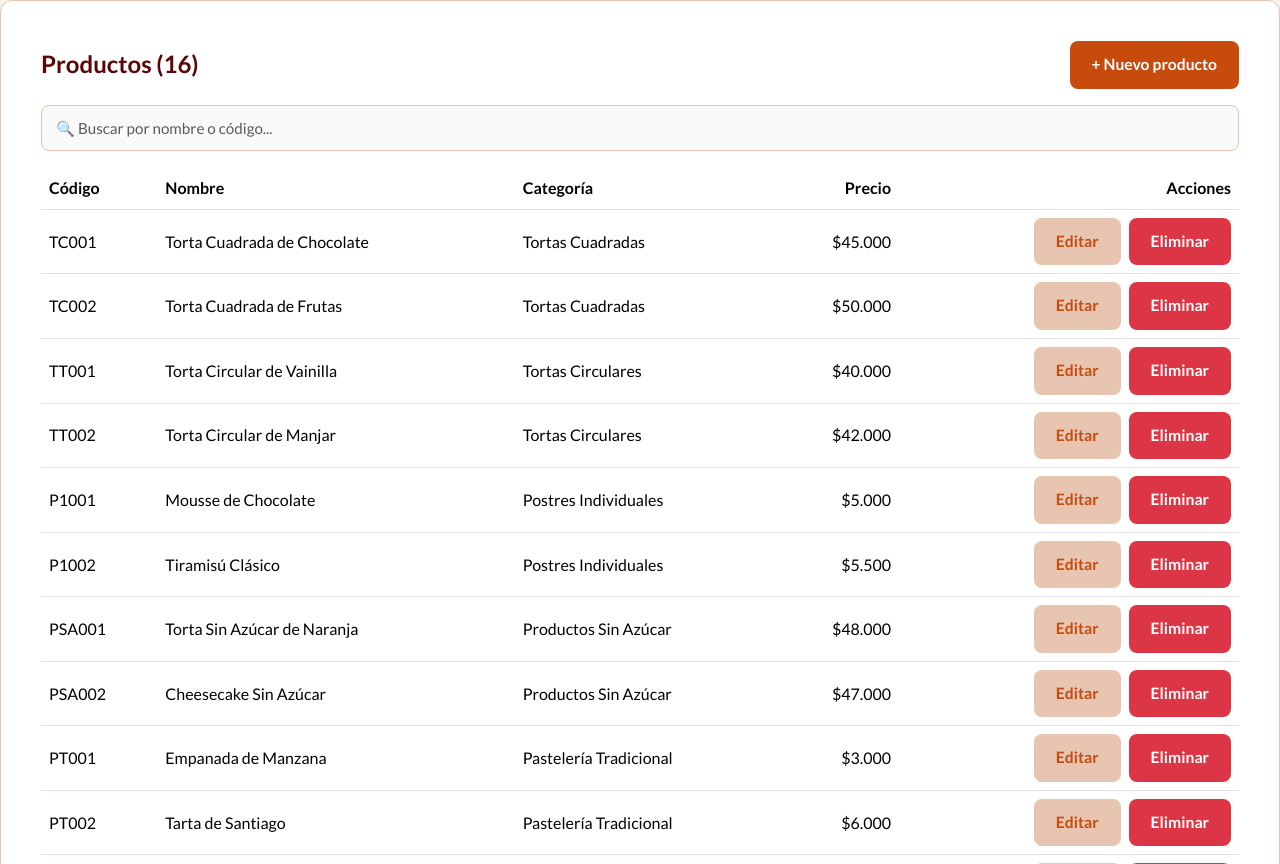
Test: Panel de Administración - Productos › Debe mostrar un error si el código ya existe
The width and height of the screenshot is (1280, 864).
Click the button "+ Nuevo producto" at (1154, 65), box [1070, 41, 1239, 88]
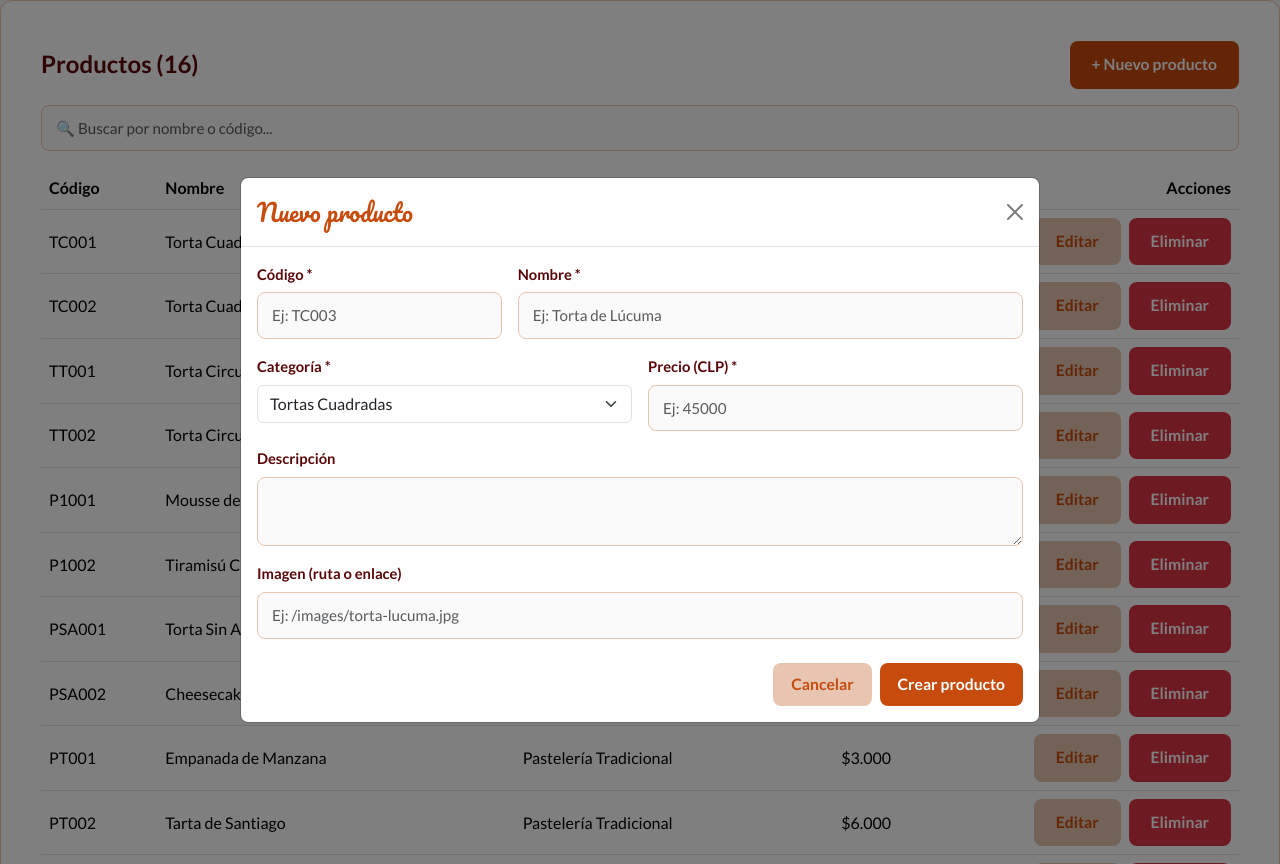
Type "TC001" into the field labelled "Código *" at (379, 316), box [257, 292, 502, 339]
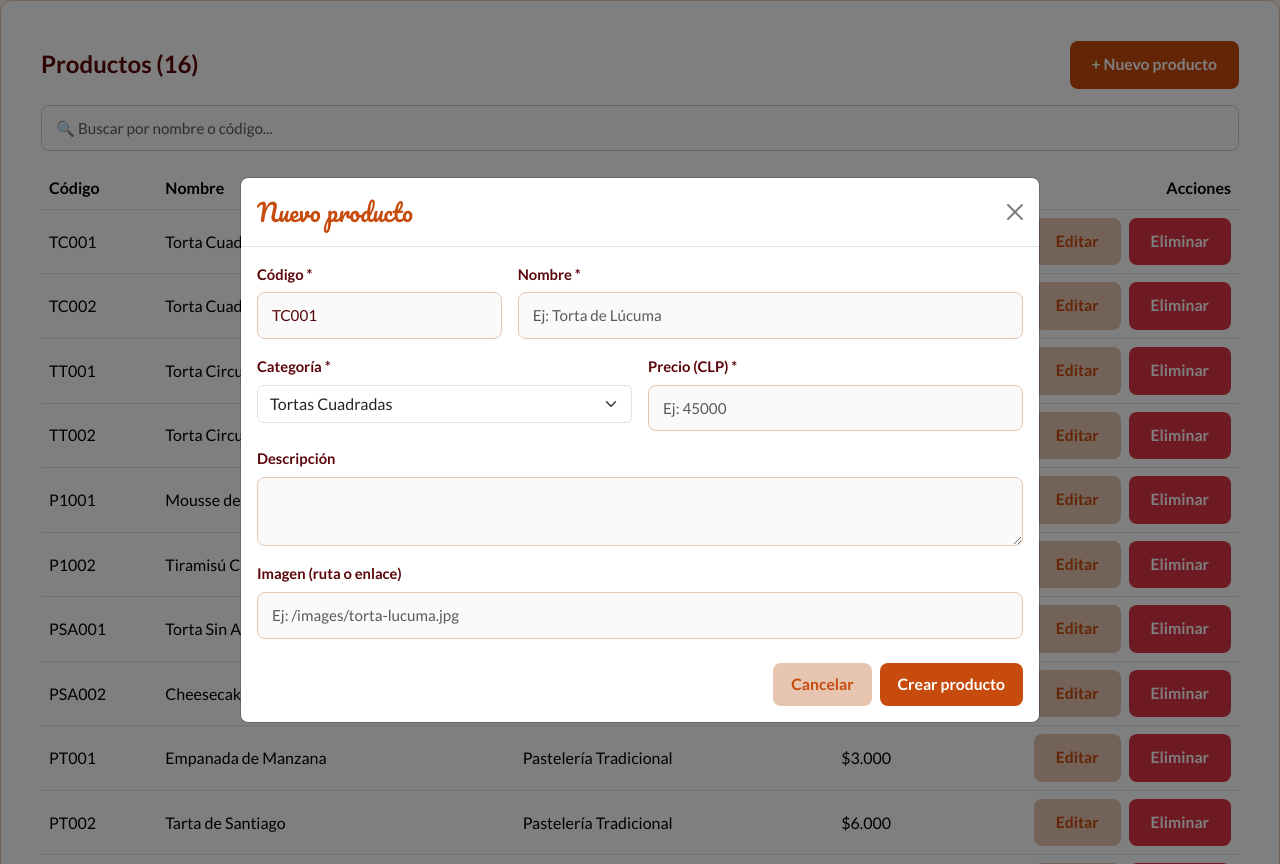
Type "Repetida" into the field labelled "Nombre *" at (770, 316), box [518, 292, 1023, 339]
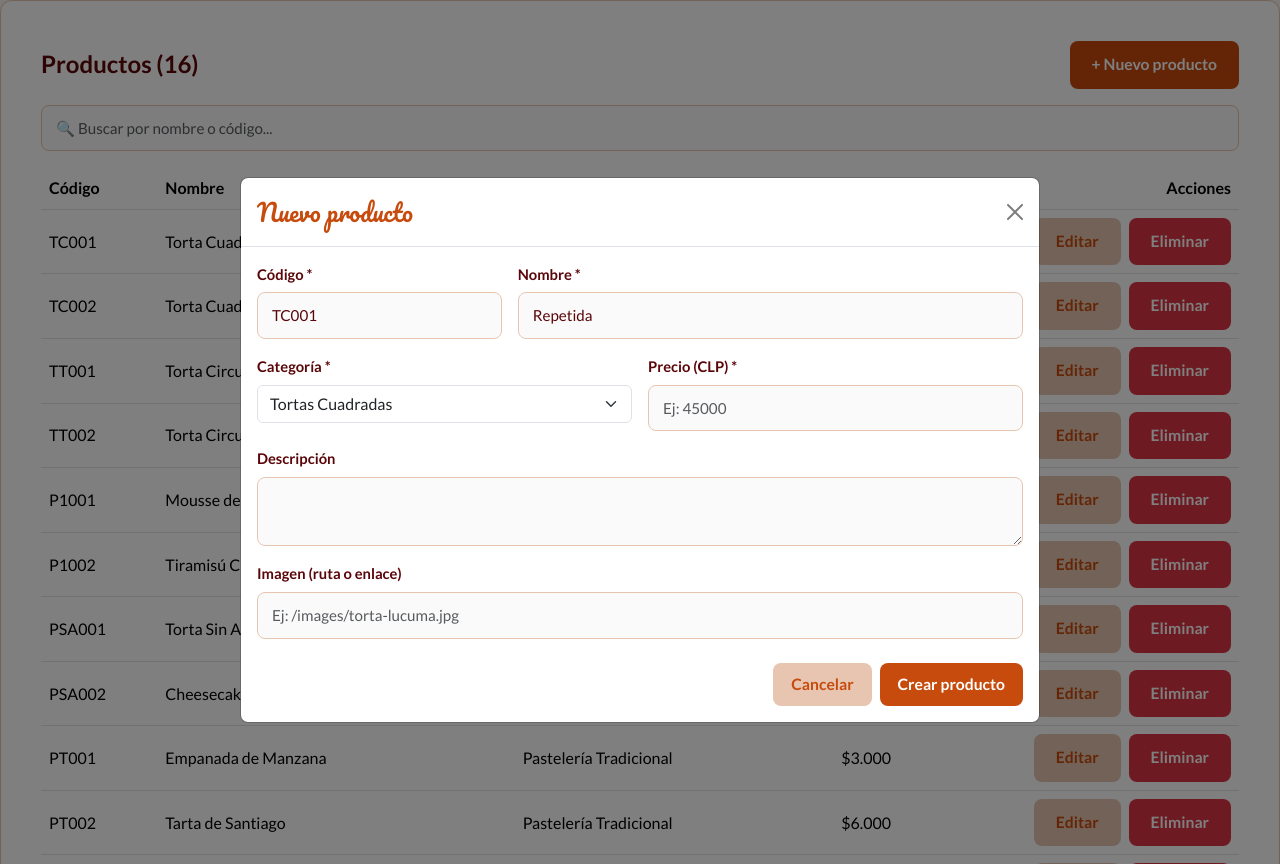
Type "1000" into the number field labelled "Precio (CLP) *" at (836, 408), box [648, 385, 1023, 431]
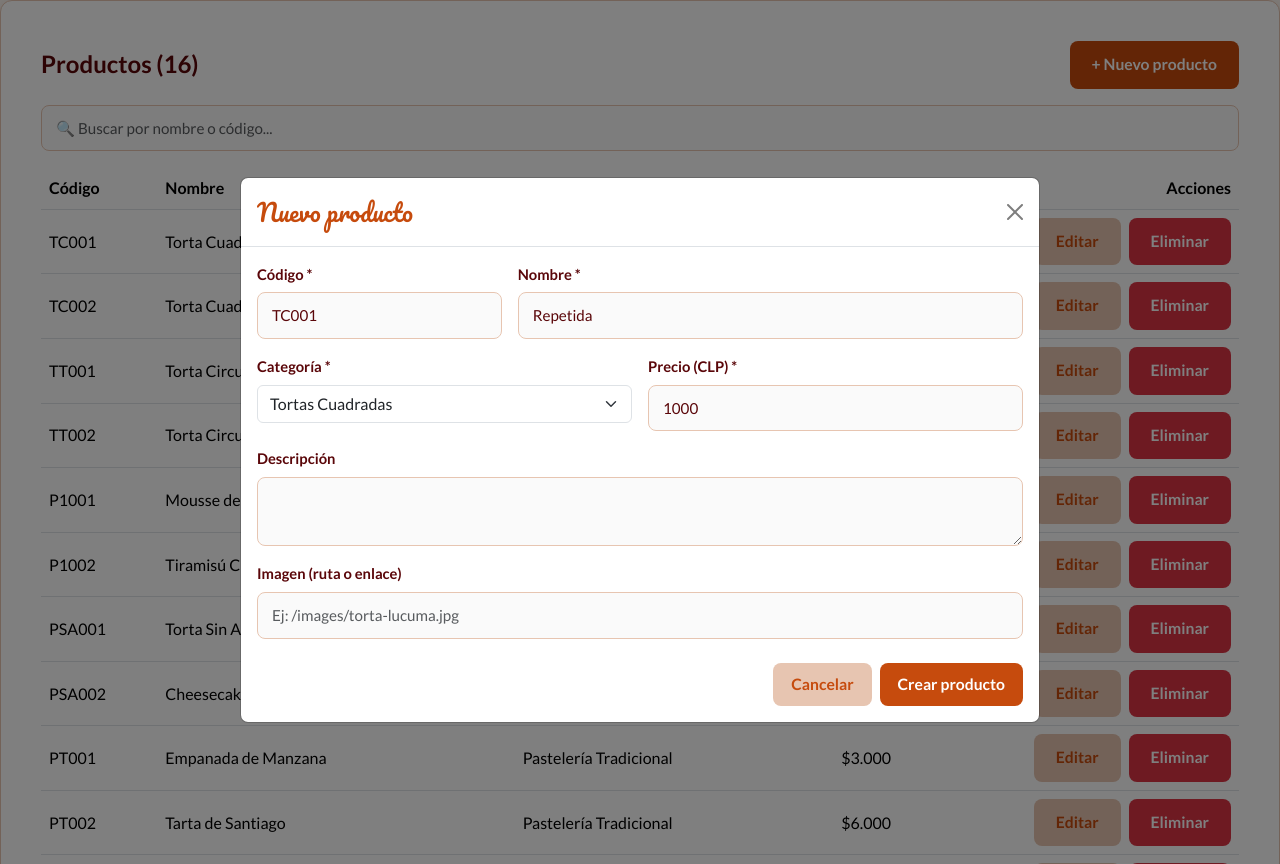
Click the button "Crear producto" at (951, 685), box [880, 663, 1023, 706]
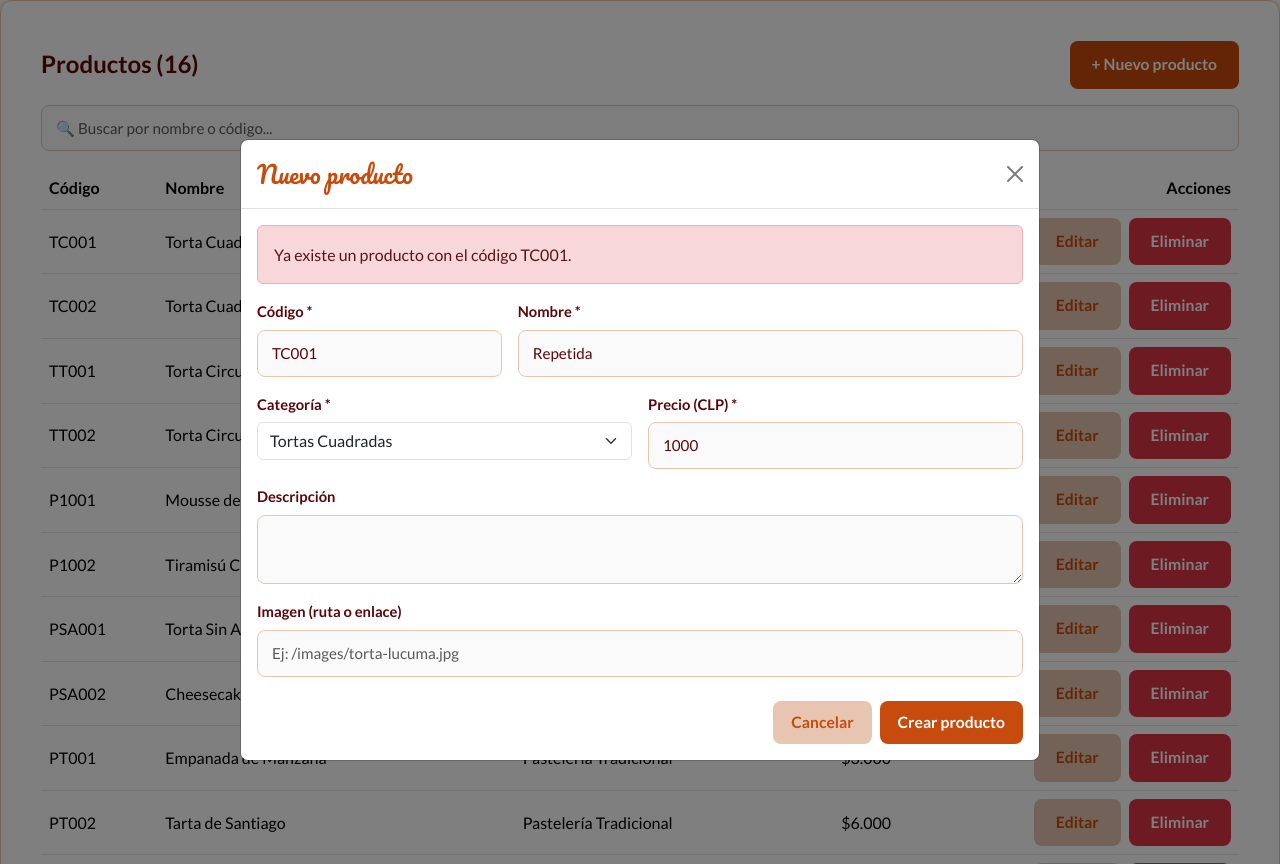
Expected: the message shows "Ya existe un producto con el código TC001", [274, 245, 571, 264]
